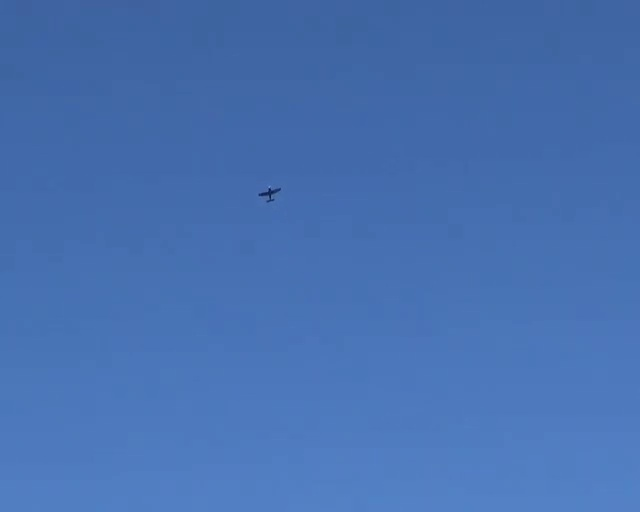AIRPLANE: (258, 186, 281, 202)
